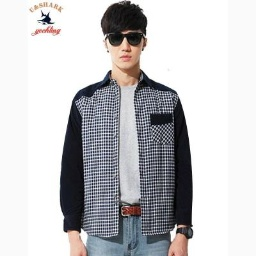face: (101, 2, 149, 68)
